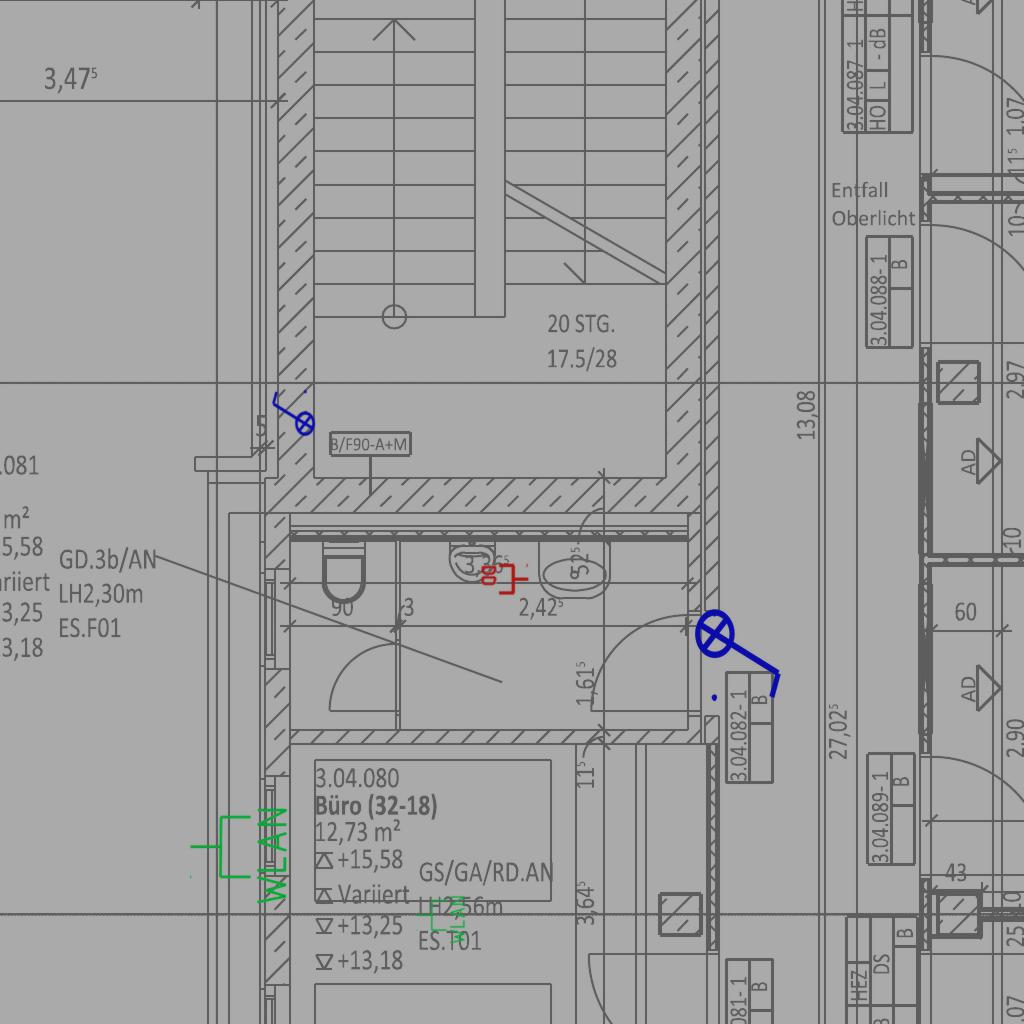Ausschalter_beleuchtet: (693, 595, 789, 707), (268, 387, 316, 443)
Datenanschluss_zweifach: (479, 563, 530, 597)
WLAN: (187, 804, 291, 909), (415, 894, 467, 946)
